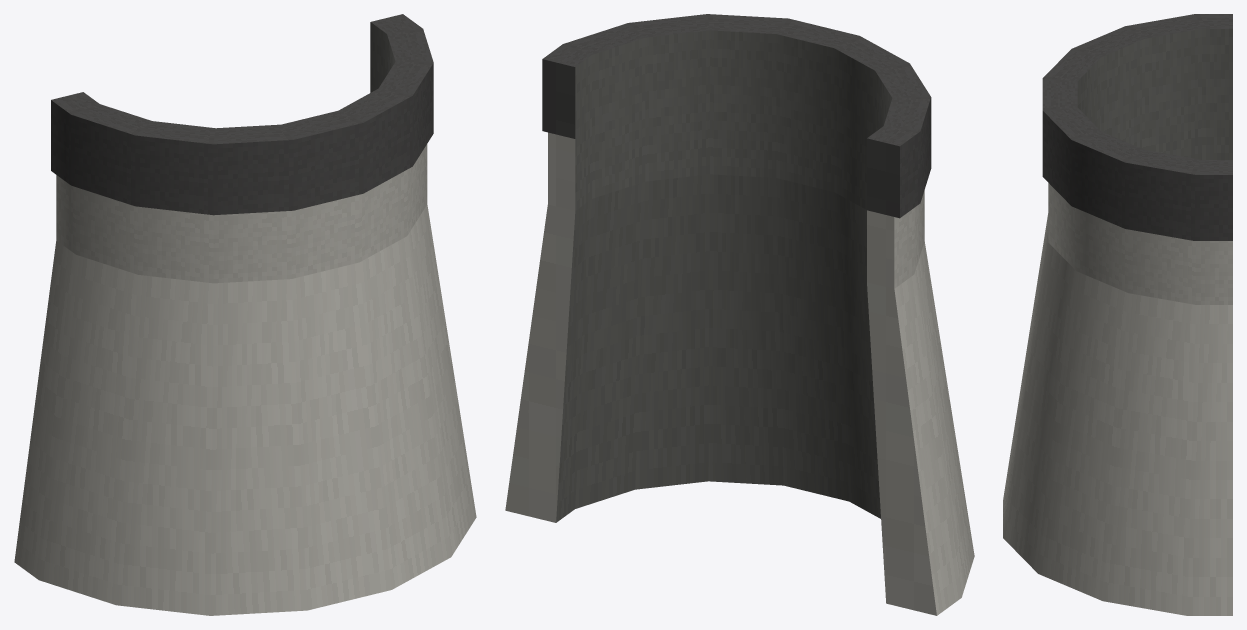
File: mh_cone_cut.obj
3 views of the same model, side by side, from view 1: azimuth 30°, elevation 25°; view 2: azimuth 150°, elevation 25°; view 3: azimuth 270°, elevation 25° (orthographic). The views are drawn at different scales.
Visible parts, largest first — view 1: mh_cone_cut; view 2: mh_cone_cut; view 3: mh_cone_cut.
Part boxes in pixels (x1=…): mh_cone_cut: x1=14, y1=14, x2=476, y2=615; mh_cone_cut: x1=505, y1=14, x2=974, y2=615; mh_cone_cut: x1=1003, y1=14, x2=1232, y2=615.
Size of the model in its own units: 0.9808 by 1 by 0.4904.
